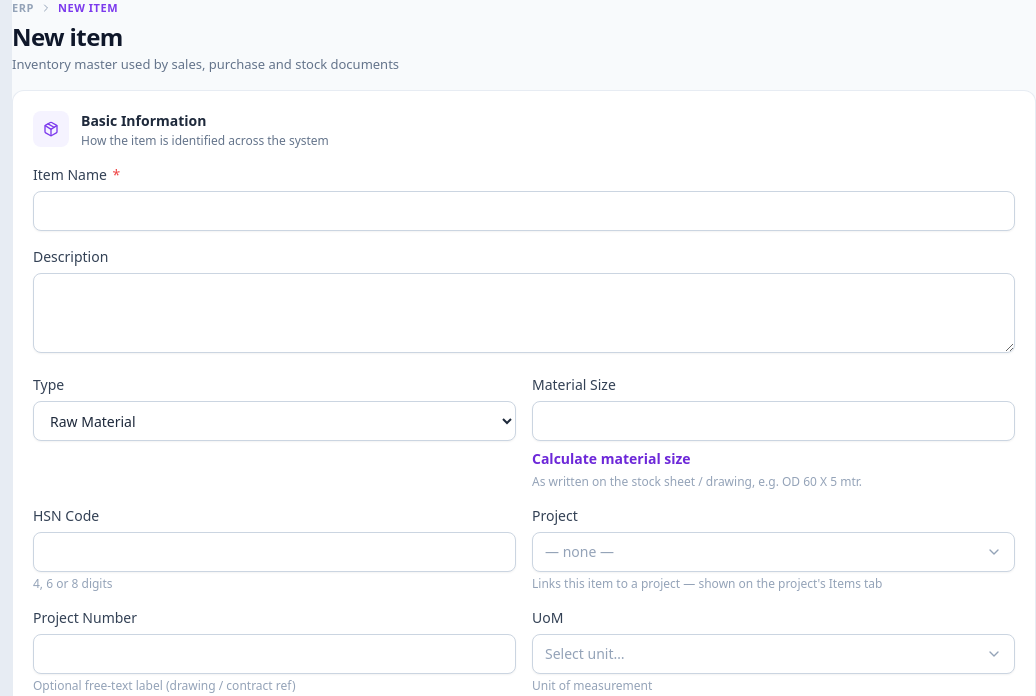
Test case: item metal calculator › calculates the purchase rate when a rate is entered after dimensions
The image size is (1036, 696).
Step 1. Type "Steel round bar" into the field labelled "Item Name *" → point(524, 211), box [33,191,1015,231]
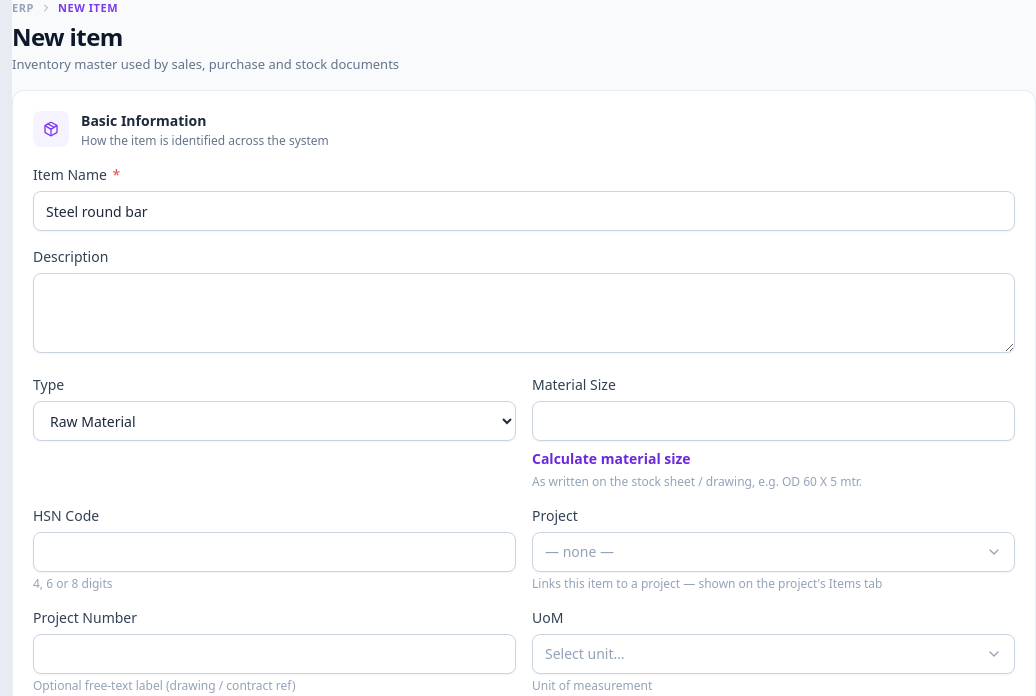
Step 2. Click the button "Calculate material size" → point(611, 459), box [532,449,691,469]
(page scrolled)
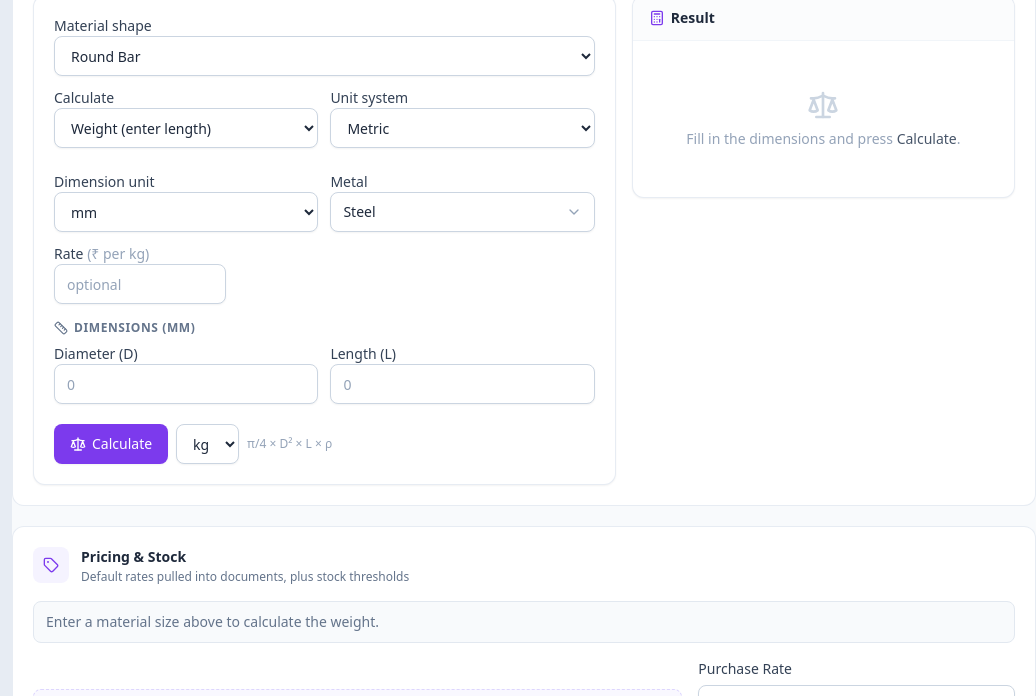
Check: the dropdown labelled "Material shape" is shown, box [54,36,595,76]
Step 3. Type "100" into the number field with id "mc-d" → point(186, 384), box [54,364,318,404]
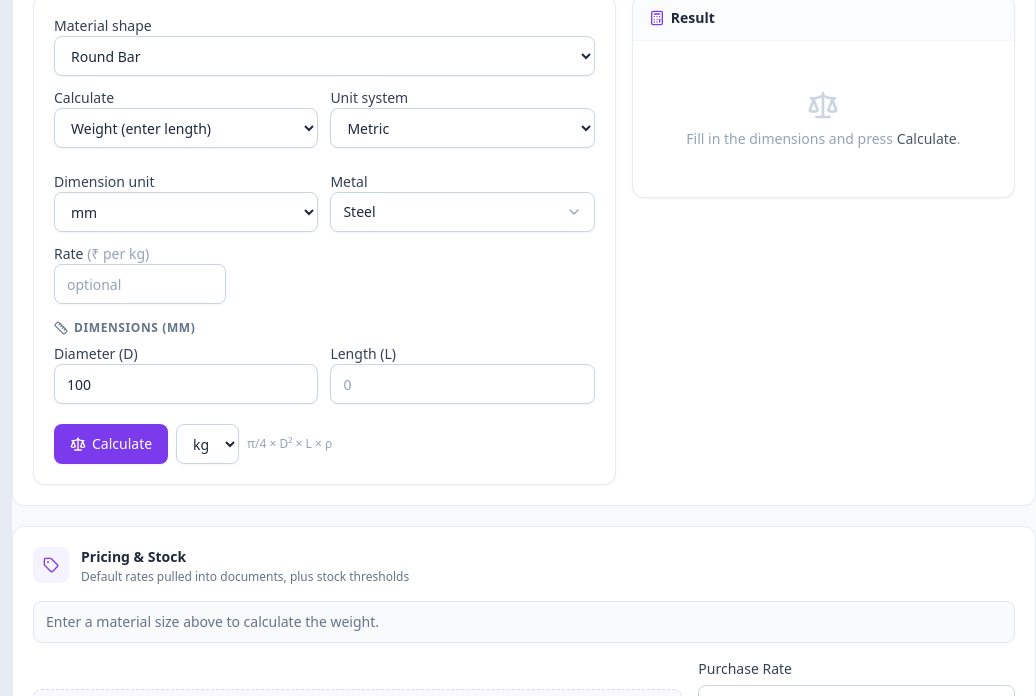
Step 4. Type "1000" into the number field with id "mc-L" → point(463, 384), box [330,364,595,404]
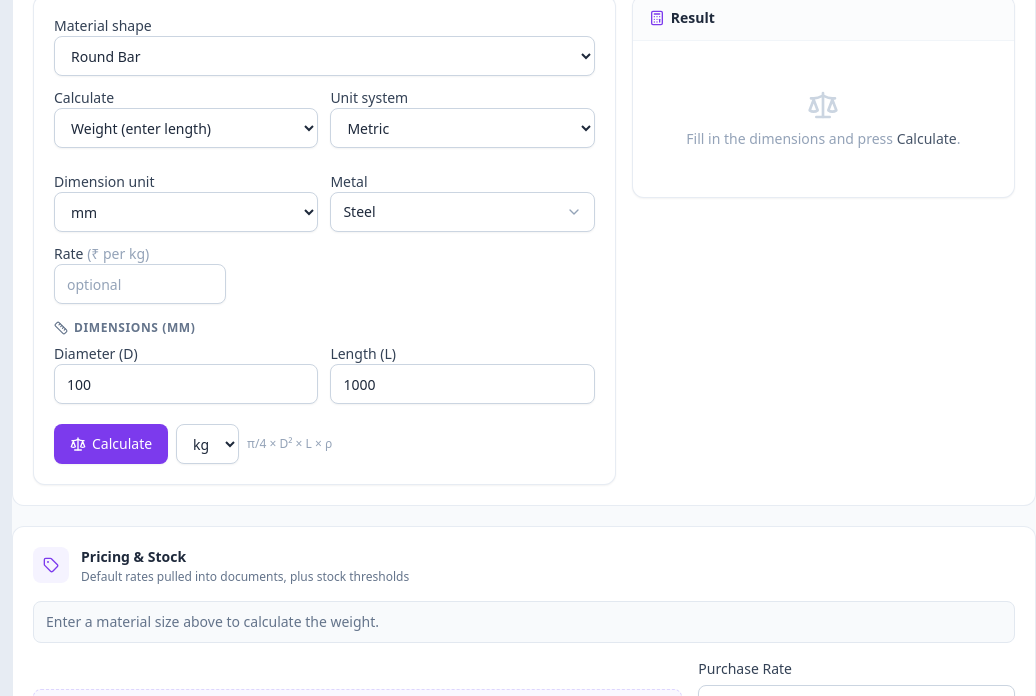
Step 5. Click the button "Calculate" → point(111, 444), box [54,424,168,464]
(page scrolled)
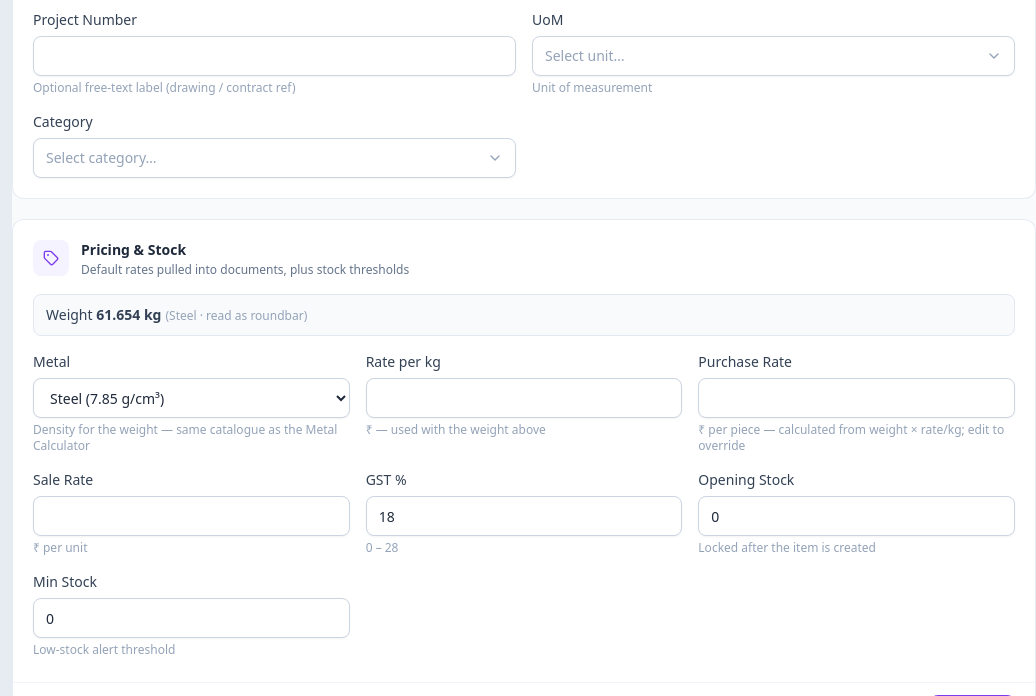
Check: the number field with id "item-purchase-rate" is not empty, box [698,378,1015,418]
Step 6. Type "75" into the number field with id "item-rate-per-kg" → point(524, 398), box [366,378,682,418]
(page scrolled)
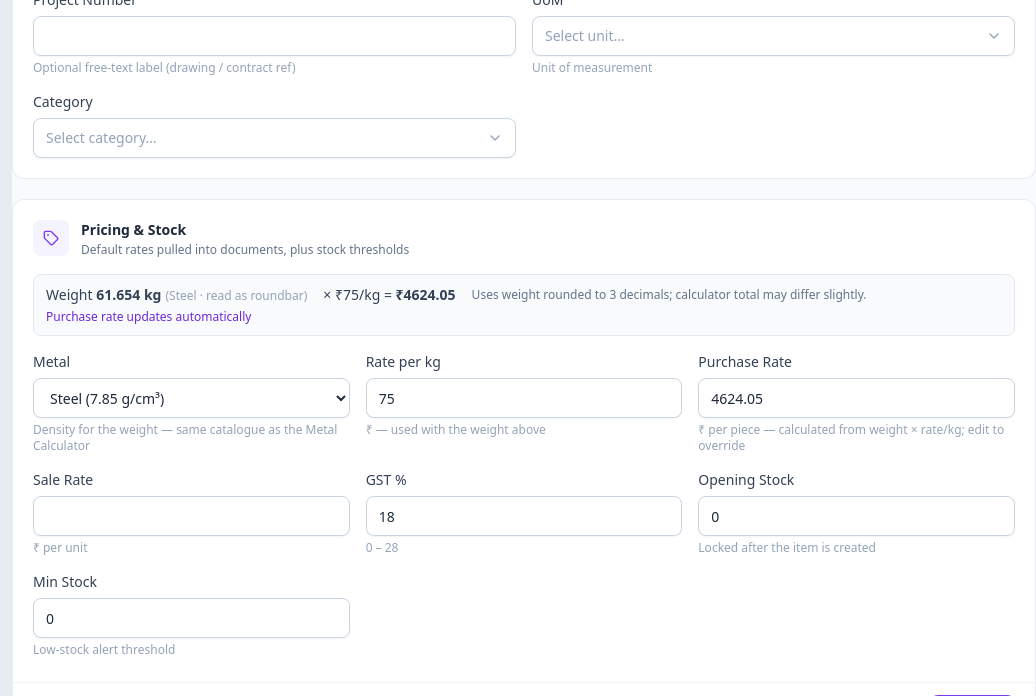
Check: the number field with id "item-purchase-rate" holds "4624.05", box [698,378,1015,418]
